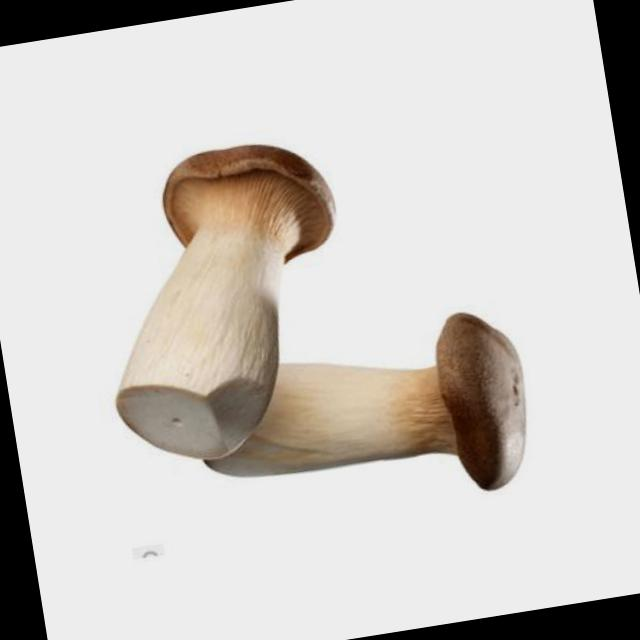Pleurotus eryngii: (74, 130, 374, 472), (186, 306, 541, 534)
